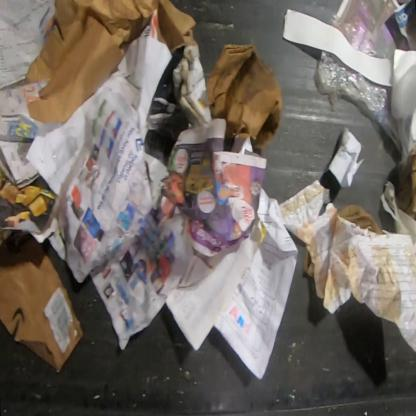cardboard: (28, 0, 197, 124), (0, 237, 84, 372), (206, 44, 283, 152), (396, 150, 416, 221)
soft_plastic: (314, 50, 402, 151), (327, 0, 396, 60), (397, 58, 415, 168)
